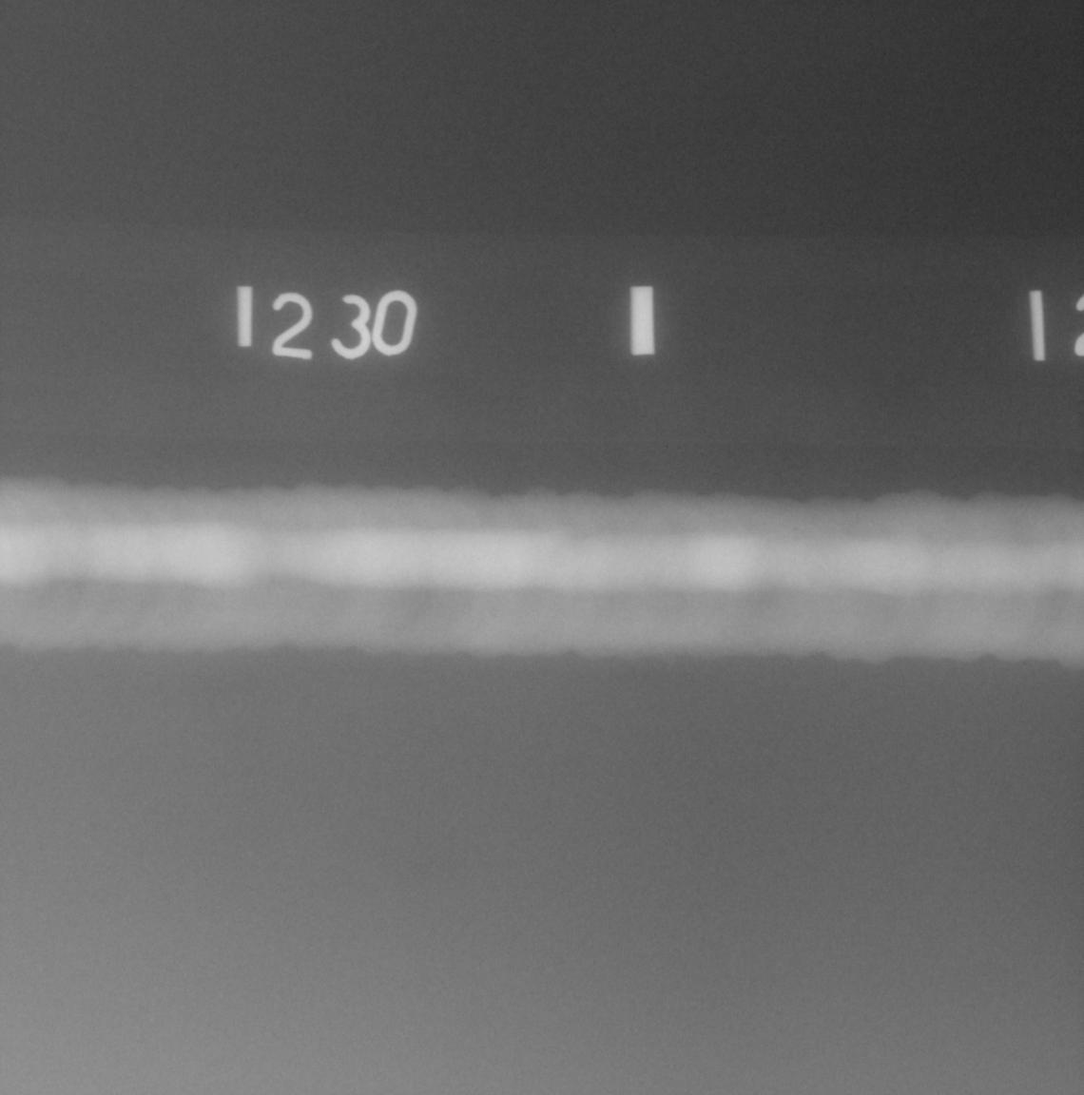Pore/Porosity: (793, 527, 798, 532)
